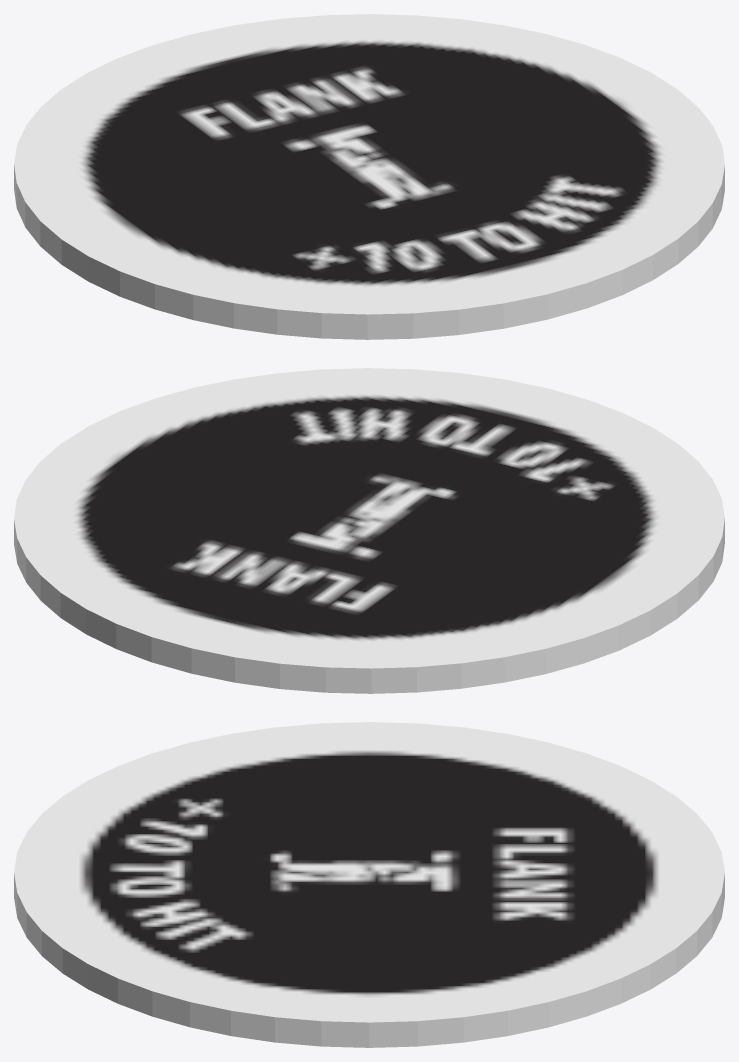
The picture shows the model from 3 angles, top to bottom: view 1: azimuth 30°, elevation 25°; view 2: azimuth 150°, elevation 25°; view 3: azimuth 270°, elevation 25°; orthographic projection.
Visible parts, largest first — view 1: Curve.008_Curve.787; view 2: Curve.008_Curve.787; view 3: Curve.008_Curve.787.
Part boxes in pixels (<box>): Curve.008_Curve.787: <box>14,14,724,339</box>; Curve.008_Curve.787: <box>14,368,724,693</box>; Curve.008_Curve.787: <box>14,722,724,1047</box>.
Size of the model in its own units: 1 by 0.0394 by 1.
